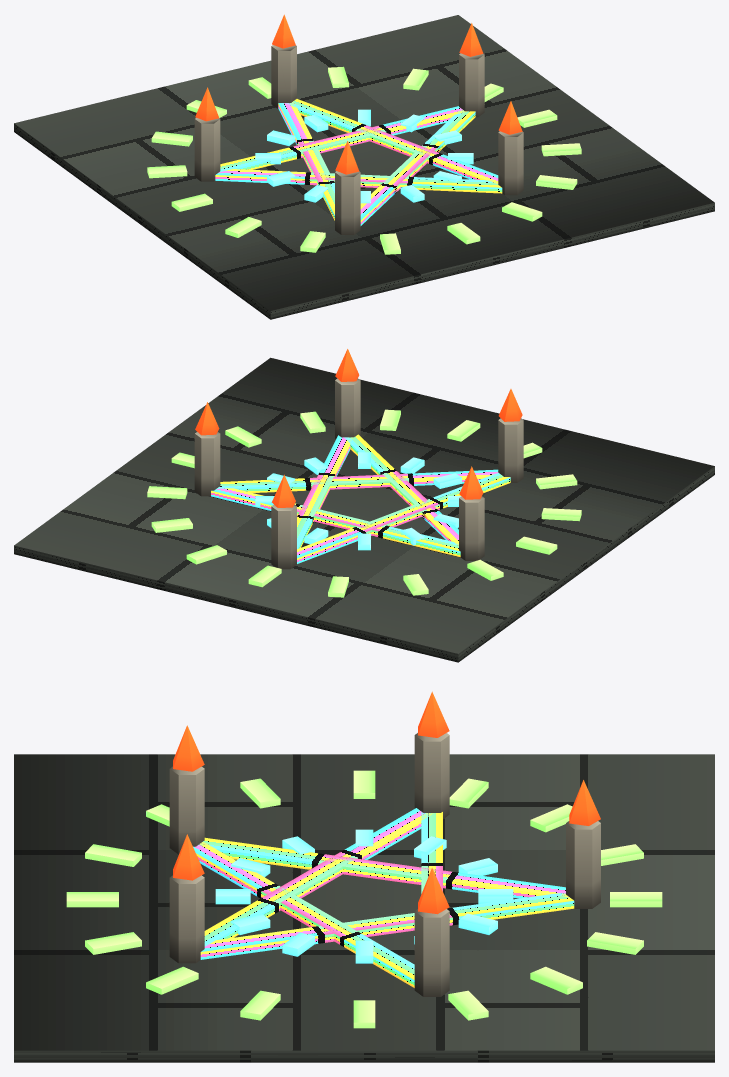
File: summoning_circle.glb
The picture shows the model from 3 angles, top to bottom: view 1: azimuth 30°, elevation 25°; view 2: azimuth 150°, elevation 25°; view 3: azimuth 270°, elevation 25°; orthographic projection. The views are drawn at different scales.
Parts seen in each view (by area): view 1: summoning_circle; view 2: summoning_circle; view 3: summoning_circle.
Part boxes in pixels (box(x1,y1,x2,y2)): summoning_circle: box(14, 14, 714, 319); summoning_circle: box(14, 349, 714, 662); summoning_circle: box(14, 691, 714, 1062).
Bounding box in the file's own units: 1.6 × 0.34 × 1.6.
Materials: 1 (1 with a texture image).
